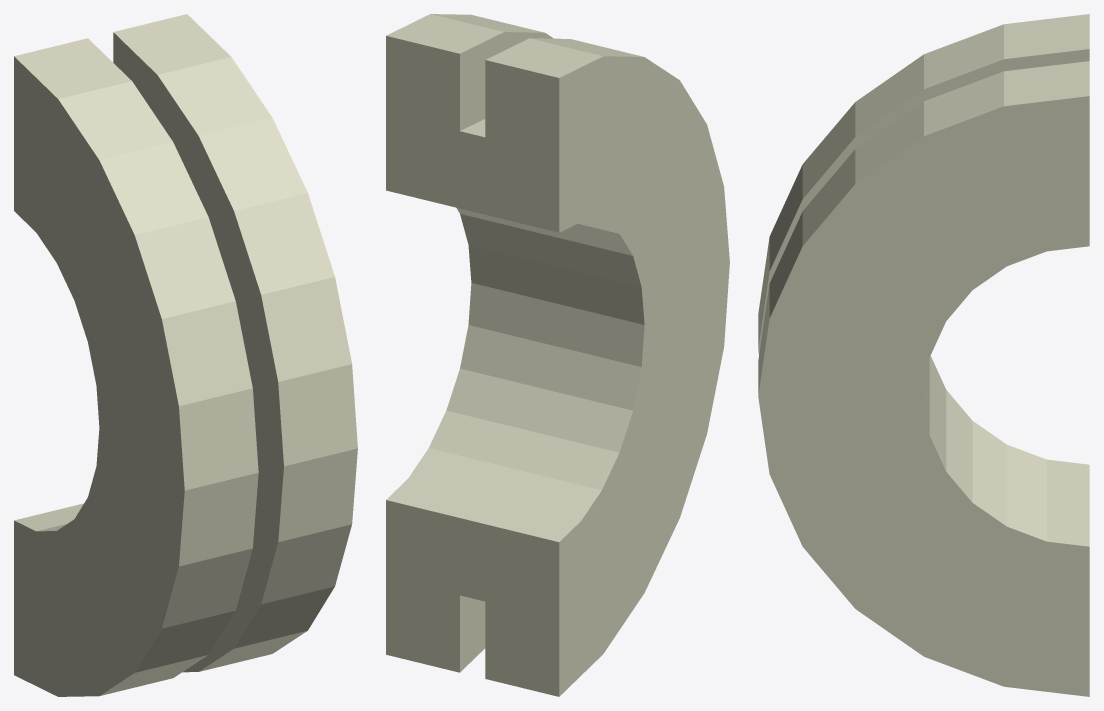
Rendered from section_062.obj.
3 views of the same model, side by side, from view 1: azimuth 30°, elevation 25°; view 2: azimuth 150°, elevation 25°; view 3: azimuth 270°, elevation 25° (orthographic). The views are drawn at different scales.
Bounding box in the file's own units: 2.34 × 8 × 4.
